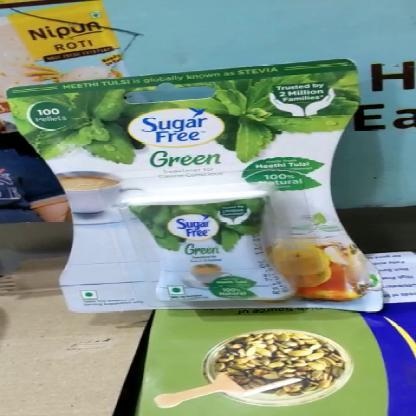SUGAR FREE GRN 300 PELLET: (0, 59, 378, 311)
